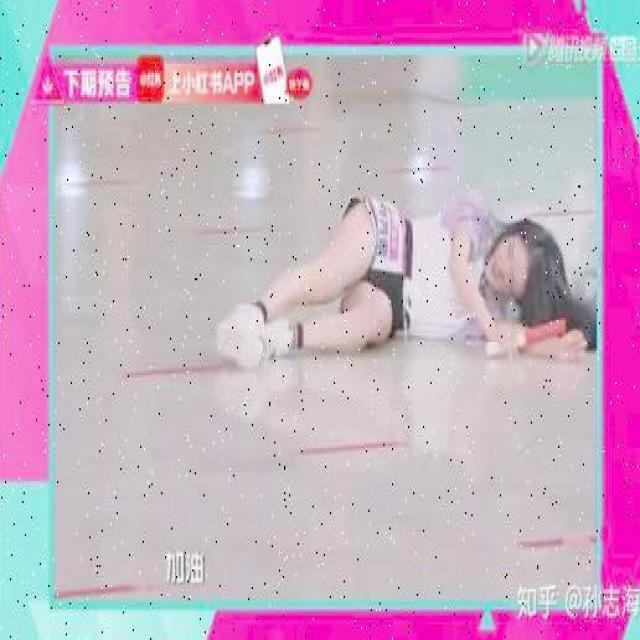fall: (216, 190, 600, 366)
